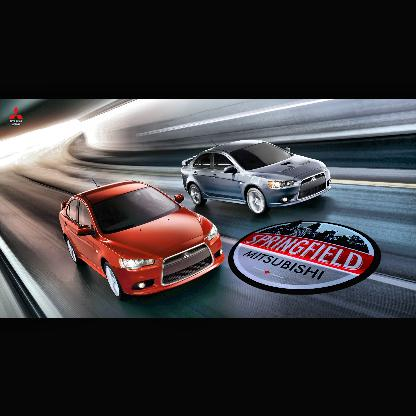Mitsubishi Lancer Sedan 2012: (60, 176, 227, 304)
